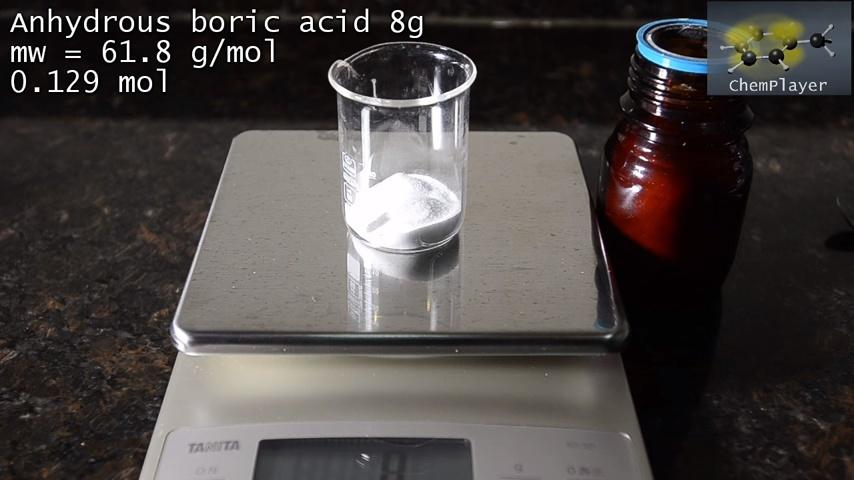Beaker: (306, 19, 499, 272)
